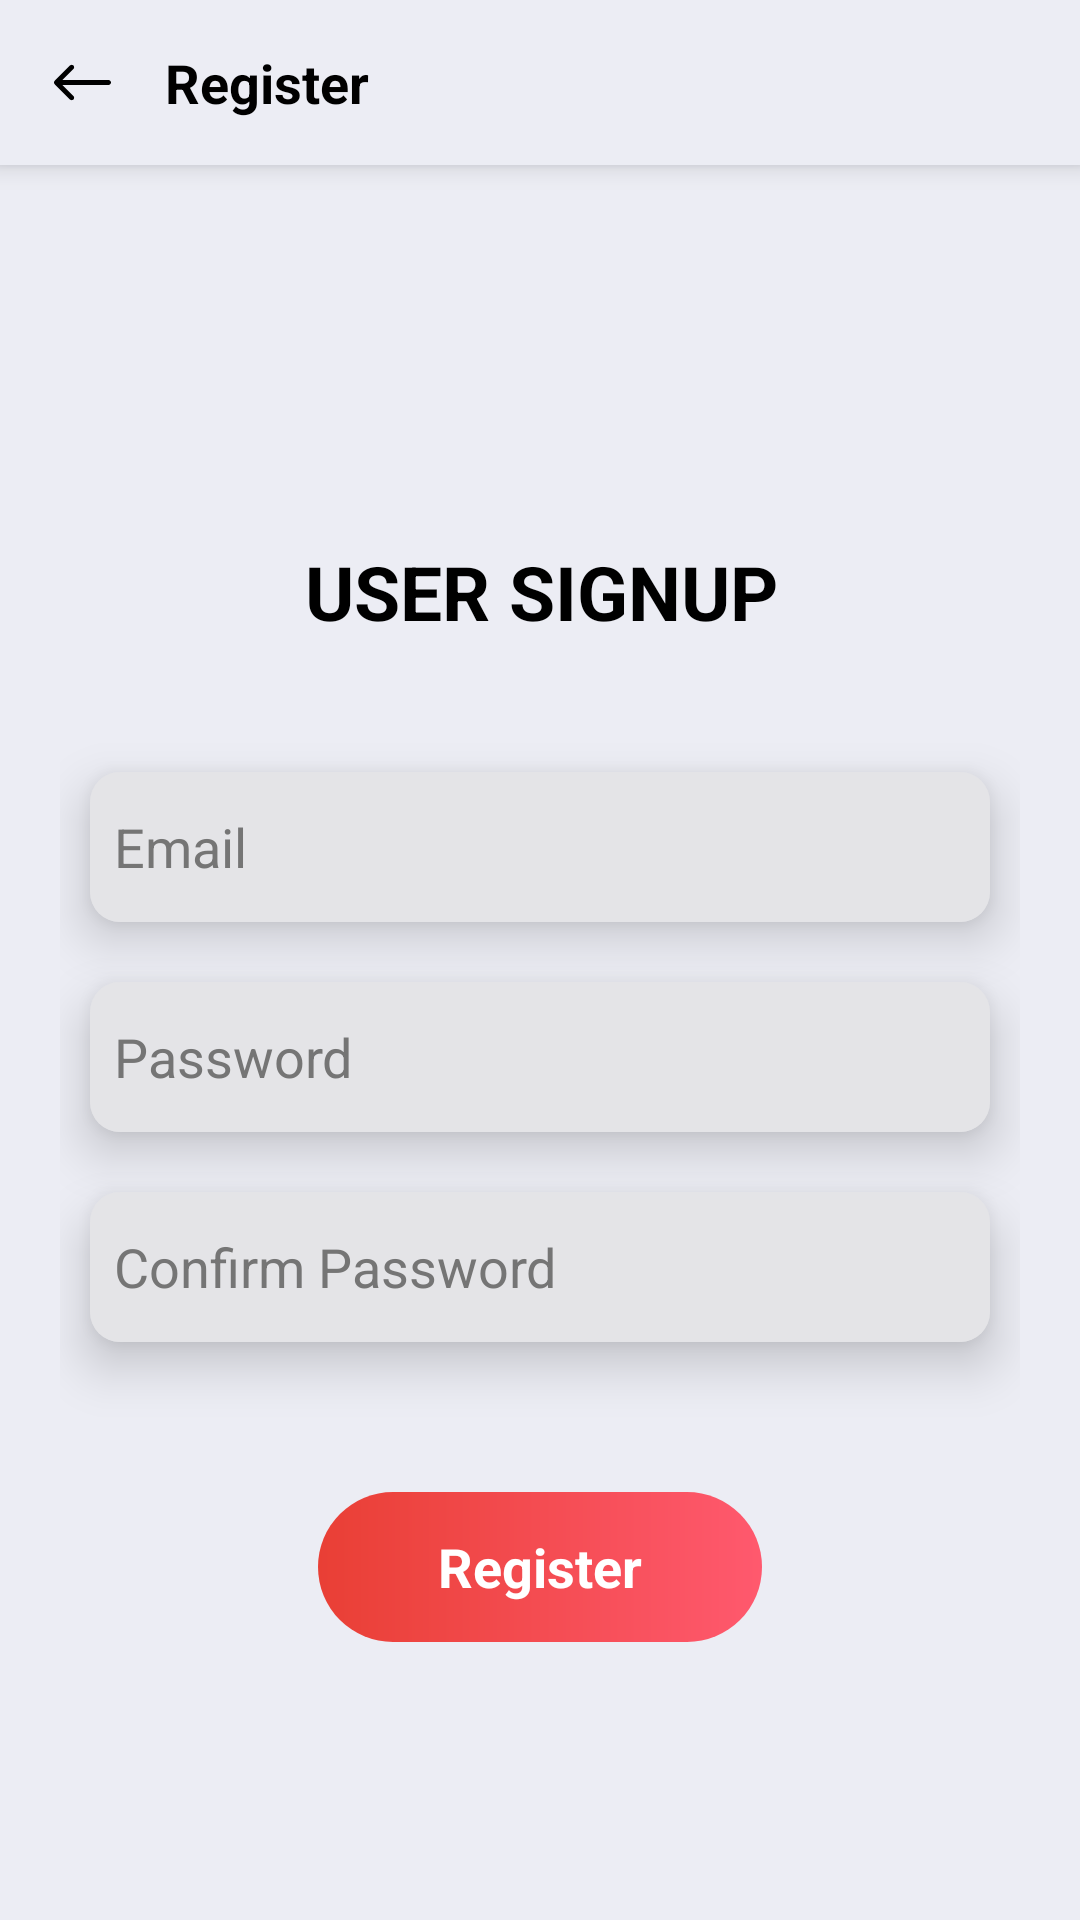

Icons on this 1080px x 1920px Android screen, each with its box as (x1, y1, x2, y2):
back arrow: (54, 64, 111, 101)
